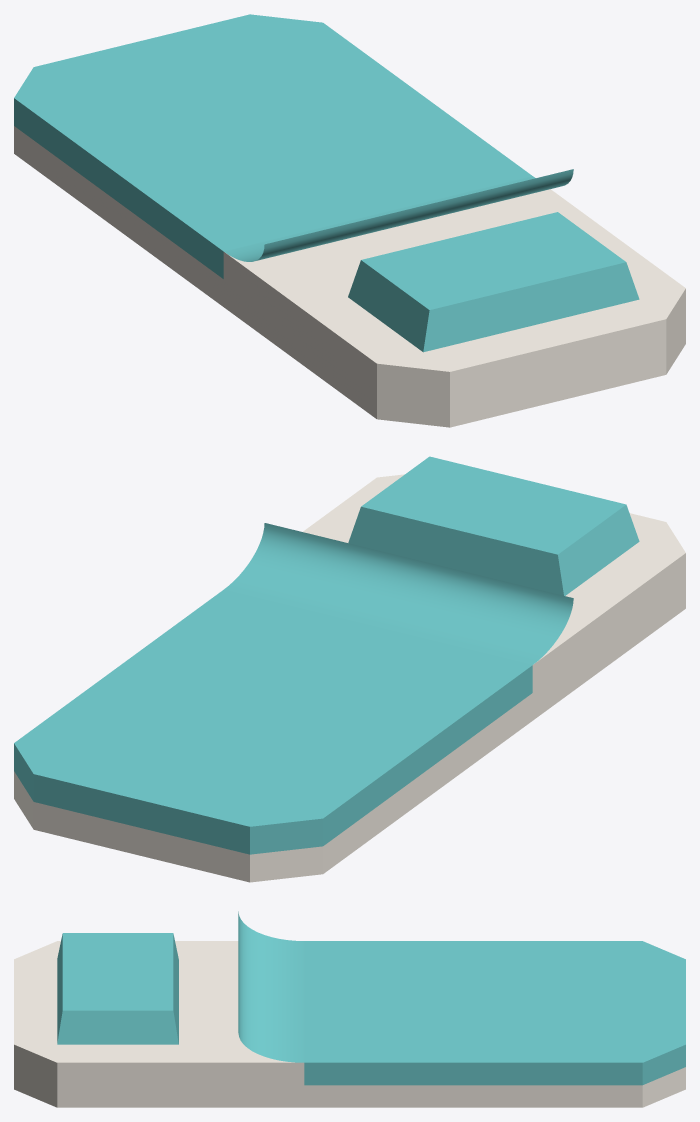
Rendered from bed_floor.glb.
3 views of the same model, one above another, from view 1: azimuth 30°, elevation 25°; view 2: azimuth 150°, elevation 25°; view 3: azimuth 270°, elevation 25° (orthographic). The views are drawn at different scales.
Parts seen in each view (by area): view 1: bed_floor; view 2: bed_floor; view 3: bed_floor.
Boxes of the visible parts, x1=… form: bed_floor: x1=14, y1=14, x2=685, y2=427; bed_floor: x1=14, y1=456, x2=685, y2=882; bed_floor: x1=14, y1=911, x2=685, y2=1107.
Bounding box in the file's own units: 0.3203 × 0.0921 × 0.7473.
